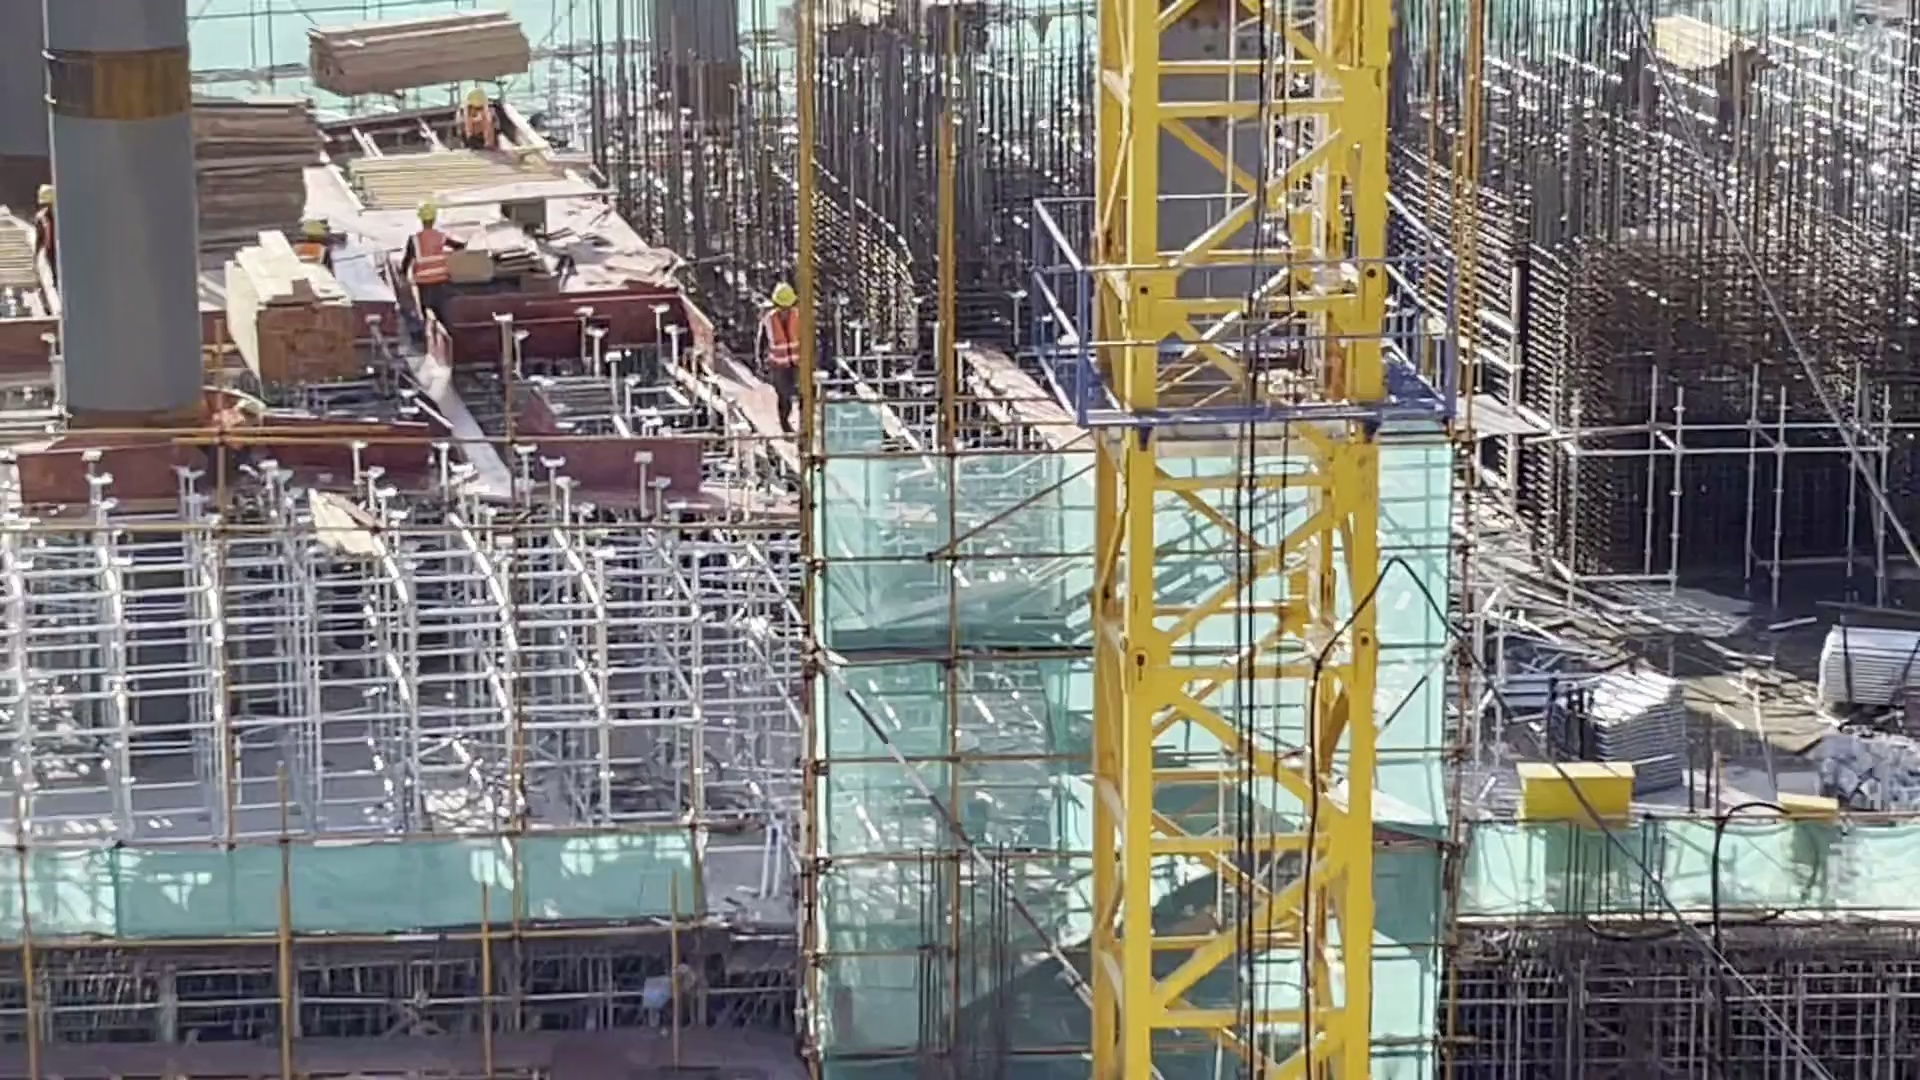ebox: (1515, 760, 1640, 816), (1774, 792, 1837, 813)
helmet: (770, 280, 797, 309), (464, 87, 490, 110), (415, 202, 437, 224), (300, 220, 327, 238), (37, 184, 54, 205)
person: (397, 204, 468, 334), (754, 278, 804, 441), (29, 186, 63, 288), (455, 93, 501, 152), (289, 219, 333, 271)
scaffold: (1814, 620, 1919, 711)
vest: (760, 306, 803, 372), (409, 230, 450, 285), (459, 108, 497, 149), (292, 243, 329, 265)
wood: (222, 226, 367, 385), (306, 11, 540, 97), (197, 83, 321, 224)
